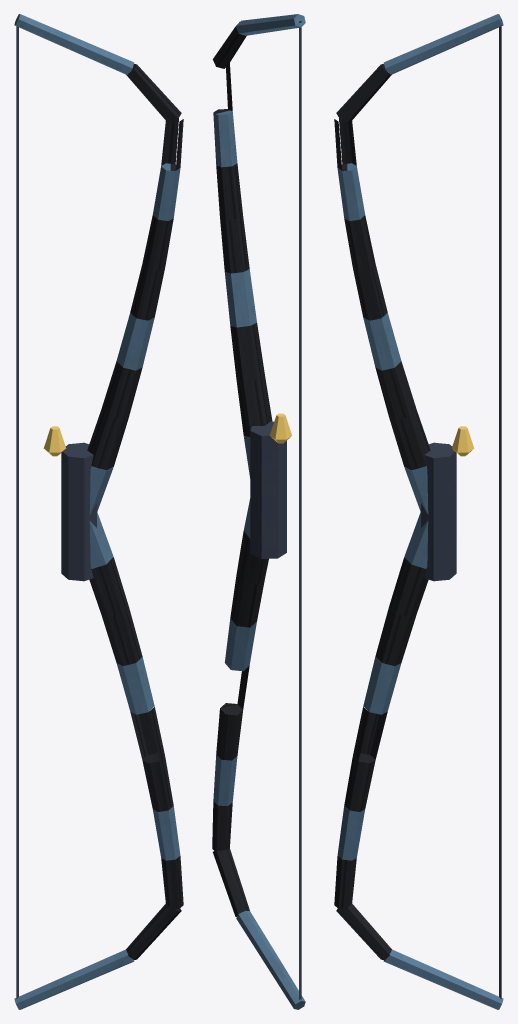
The model's file is wpn_bow_rare.glb.
3 views of the same model, side by side, from view 1: azimuth 90°, elevation 25°; view 2: azimuth 210°, elevation 25°; view 3: azimuth 270°, elevation 25° (orthographic).
Parts seen in each view (by area): view 1: wpn_bow_rare; view 2: wpn_bow_rare; view 3: wpn_bow_rare.
Boxes of the visible parts, x1,y1,x2,y2 form: wpn_bow_rare: [14, 14, 183, 1009]; wpn_bow_rare: [212, 14, 305, 1009]; wpn_bow_rare: [334, 14, 503, 1009].
Bounding box in the file's own units: 0.0585 × 1.75 × 0.2695.
Materials: 4 (4 with a texture image).
